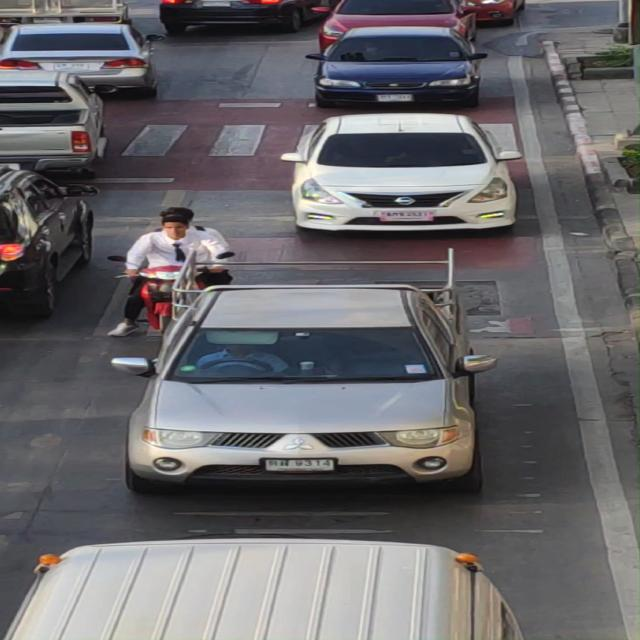car: (163, 236, 494, 471), (18, 527, 516, 640), (276, 112, 560, 247)
